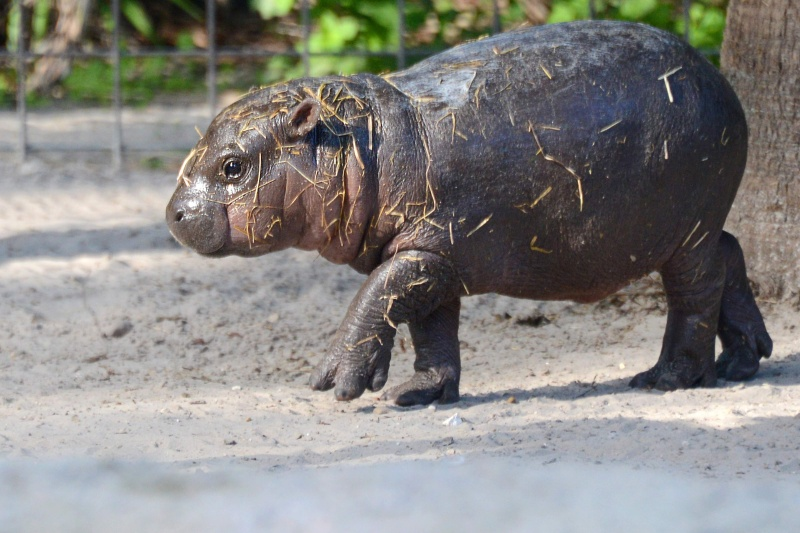hipopotamo: (148, 15, 783, 413)
